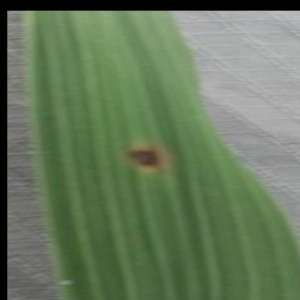Bacterial_Leaf_Blight: (117, 140, 170, 176)
